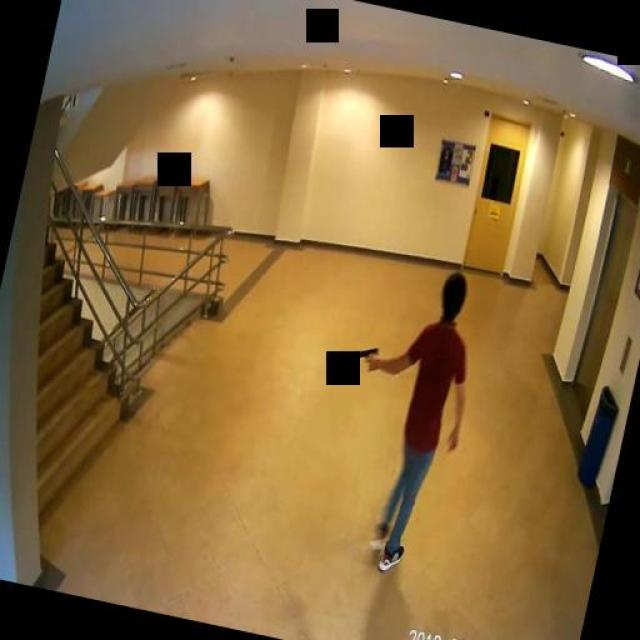gun: (352, 342, 378, 372)
